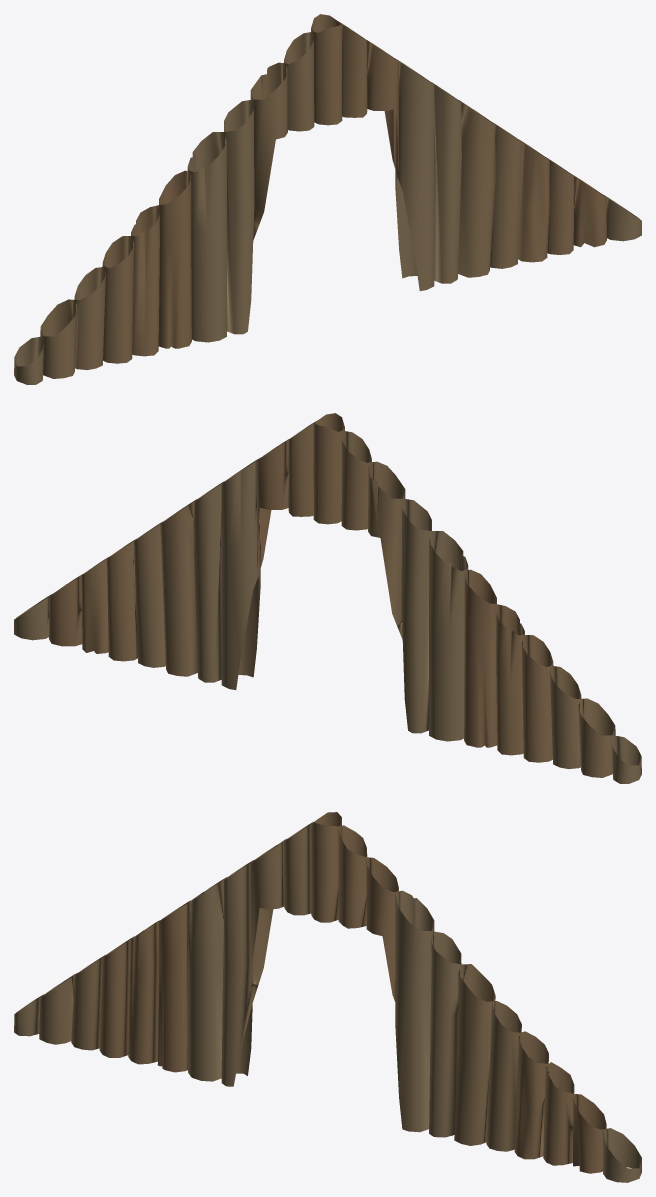
Rendered from rpgpp_ag_roof_end_01_9x4_wall_door_02b.fbx.
The picture shows the model from 3 angles, top to bottom: view 1: azimuth 30°, elevation 25°; view 2: azimuth 150°, elevation 25°; view 3: azimuth 330°, elevation 25°; orthographic projection.
Visible parts, largest first — view 1: rpgpp_ag_roof_end_01_9x4_wall_door_02b; view 2: rpgpp_ag_roof_end_01_9x4_wall_door_02b; view 3: rpgpp_ag_roof_end_01_9x4_wall_door_02b.
Boxes of the visible parts, bbox=[...] form: rpgpp_ag_roof_end_01_9x4_wall_door_02b: bbox=[14, 14, 641, 384]; rpgpp_ag_roof_end_01_9x4_wall_door_02b: bbox=[14, 413, 641, 783]; rpgpp_ag_roof_end_01_9x4_wall_door_02b: bbox=[14, 812, 641, 1182].
Bounding box in the file's own units: 9 × 3.93 × 0.4626.
